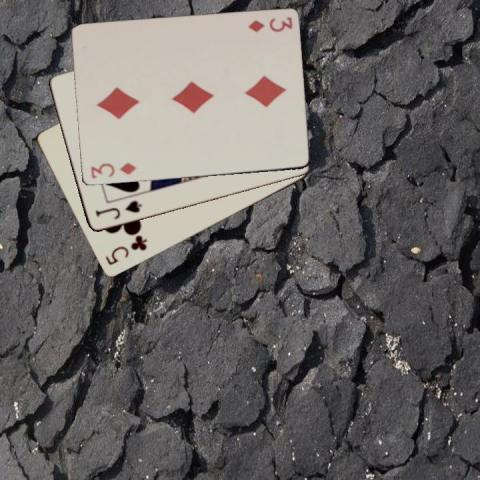3d: (88, 160, 138, 180), (245, 14, 293, 33)
5c: (102, 234, 149, 268)
Js: (92, 198, 142, 222)
